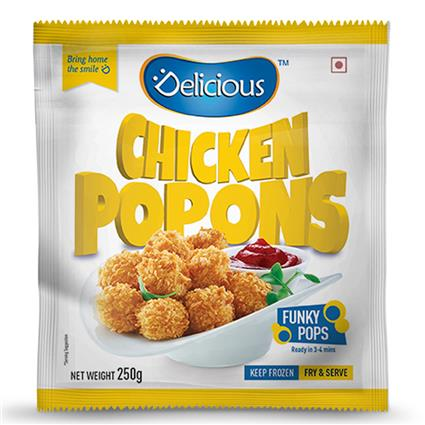nonveg_red: (330, 55, 350, 75)
